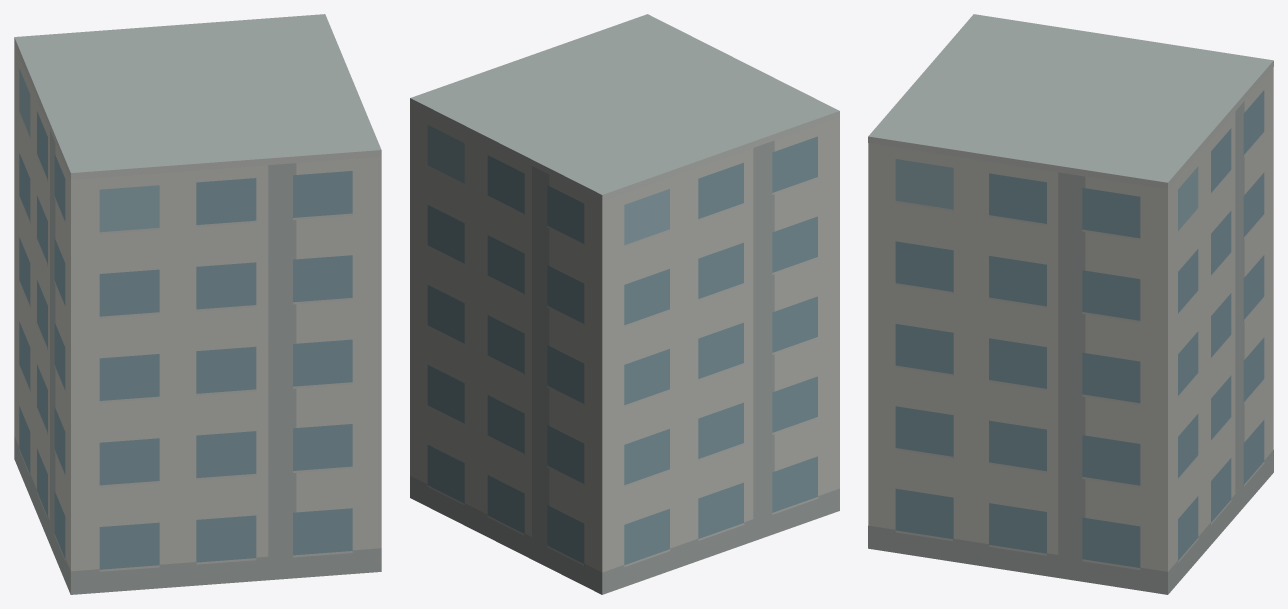
File: residential-2de14fcd-021e-4ba1-92c2-183e2b9930e9.glb
3 renders of one model, left to right at view 1: azimuth 30°, elevation 25°; view 2: azimuth 150°, elevation 25°; view 3: azimuth 270°, elevation 25°, orthographic. The views are drawn at different scales.
Visible parts, largest first — view 1: residential-2de14fcd-021e-4ba1-92c2-183e2b9930e9.tmp; view 2: residential-2de14fcd-021e-4ba1-92c2-183e2b9930e9.tmp; view 3: residential-2de14fcd-021e-4ba1-92c2-183e2b9930e9.tmp.
Boxes of the visible parts, <box> form: residential-2de14fcd-021e-4ba1-92c2-183e2b9930e9.tmp: <box>14,14,381,594</box>; residential-2de14fcd-021e-4ba1-92c2-183e2b9930e9.tmp: <box>410,14,839,594</box>; residential-2de14fcd-021e-4ba1-92c2-183e2b9930e9.tmp: <box>868,14,1273,594</box>.
Size of the model in its own units: 13.4 by 15.25 by 13.61.
